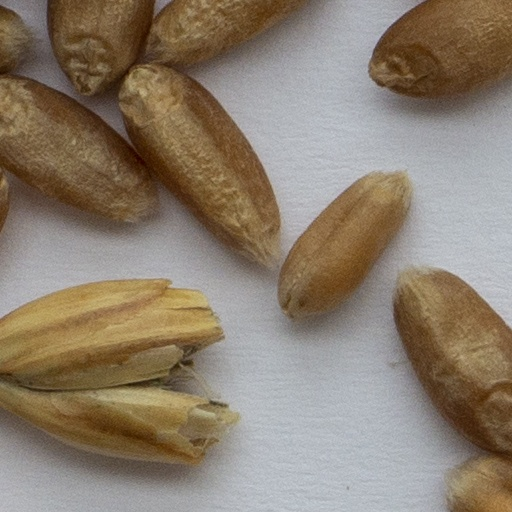Peel-poly: (0, 279, 236, 465)
